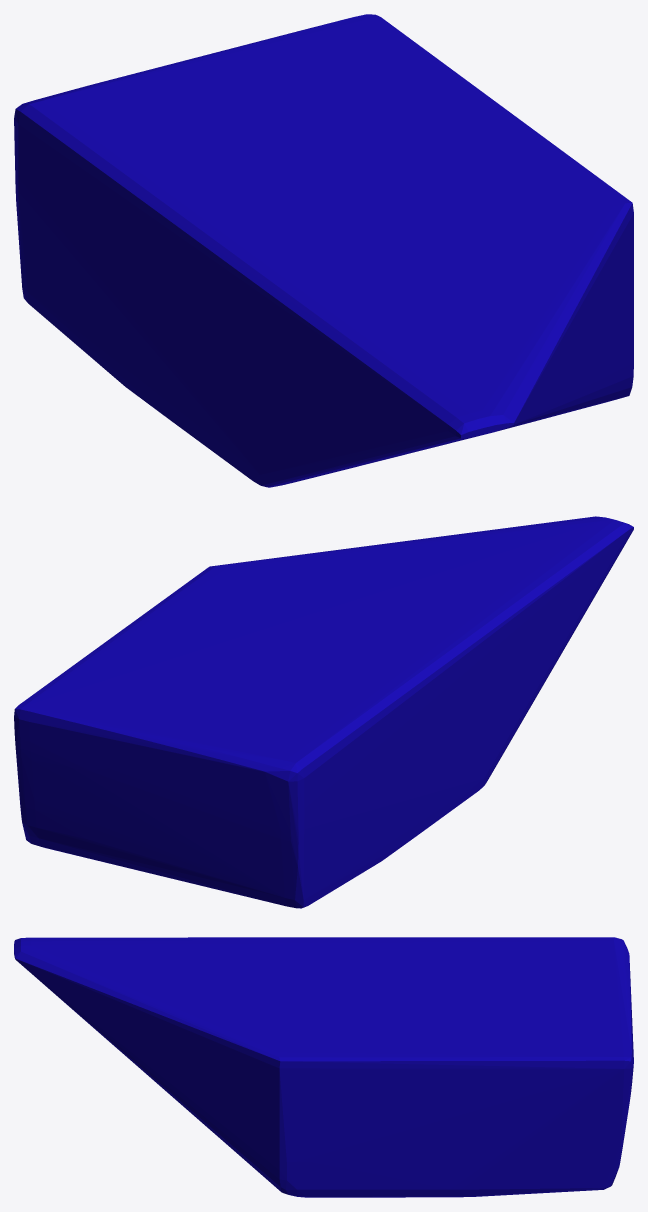
Rendered from right-hip-pitch-0_part_5.obj.
3 renders of one model, top to bottom at view 1: azimuth 30°, elevation 25°; view 2: azimuth 150°, elevation 25°; view 3: azimuth 270°, elevation 25°, orthographic. The views are drawn at different scales.
Size of the model in its own units: 0.0665 by 0.036 by 0.1403.
